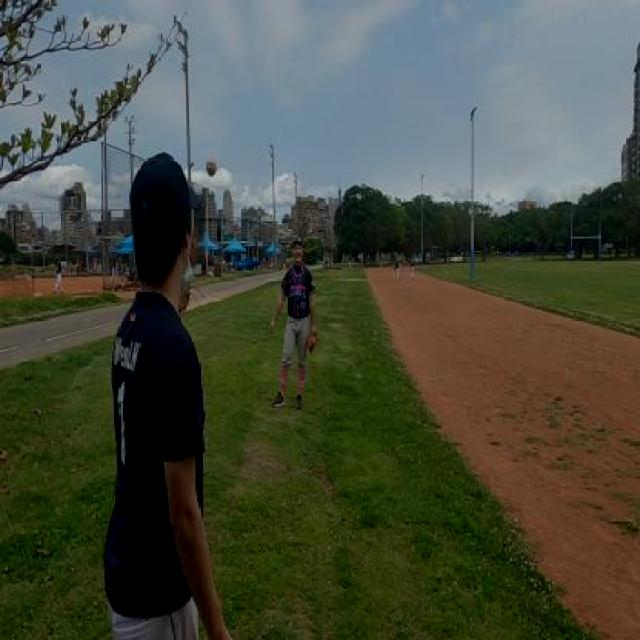sports ball: (205, 160, 217, 177)
